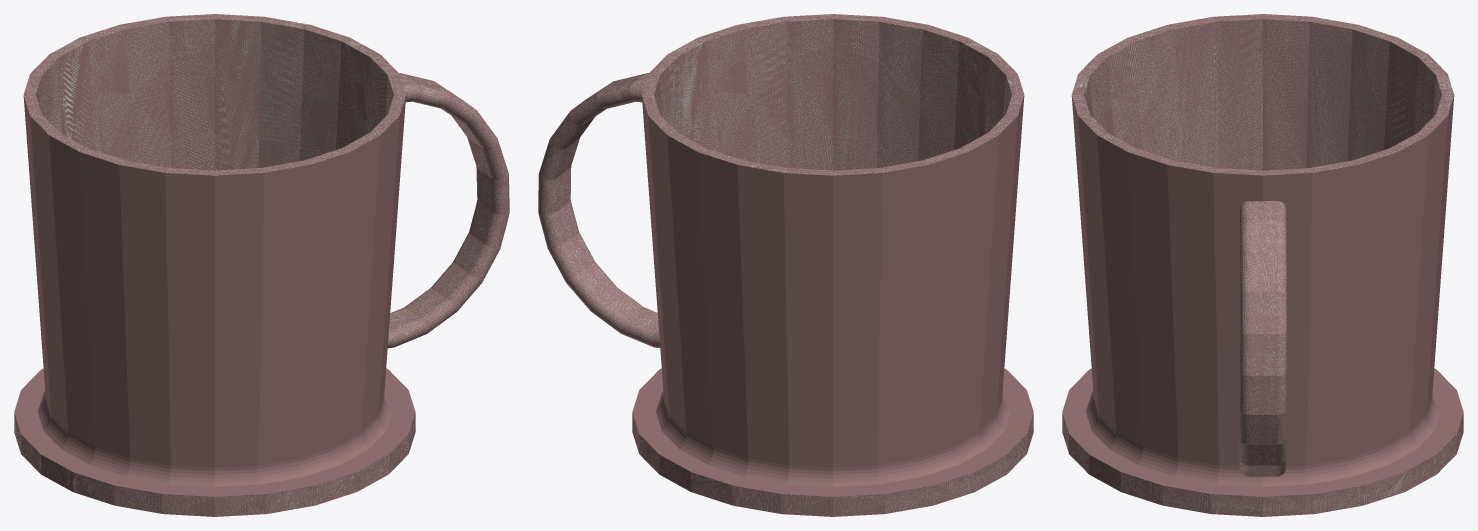
3 renders of one model, left to right at view 1: azimuth 30°, elevation 25°; view 2: azimuth 150°, elevation 25°; view 3: azimuth 270°, elevation 25°, orthographic.
Visible parts, largest first — view 1: mesh1_mesh1-geometry; view 2: mesh1_mesh1-geometry; view 3: mesh1_mesh1-geometry.
Boxes of the visible parts, x1=… form: mesh1_mesh1-geometry: x1=14, y1=14, x2=509, y2=516; mesh1_mesh1-geometry: x1=538, y1=14, x2=1033, y2=516; mesh1_mesh1-geometry: x1=1062, y1=14, x2=1463, y2=516.
Bounding box in the file's own units: 0.6967 × 0.4877 × 0.526.
